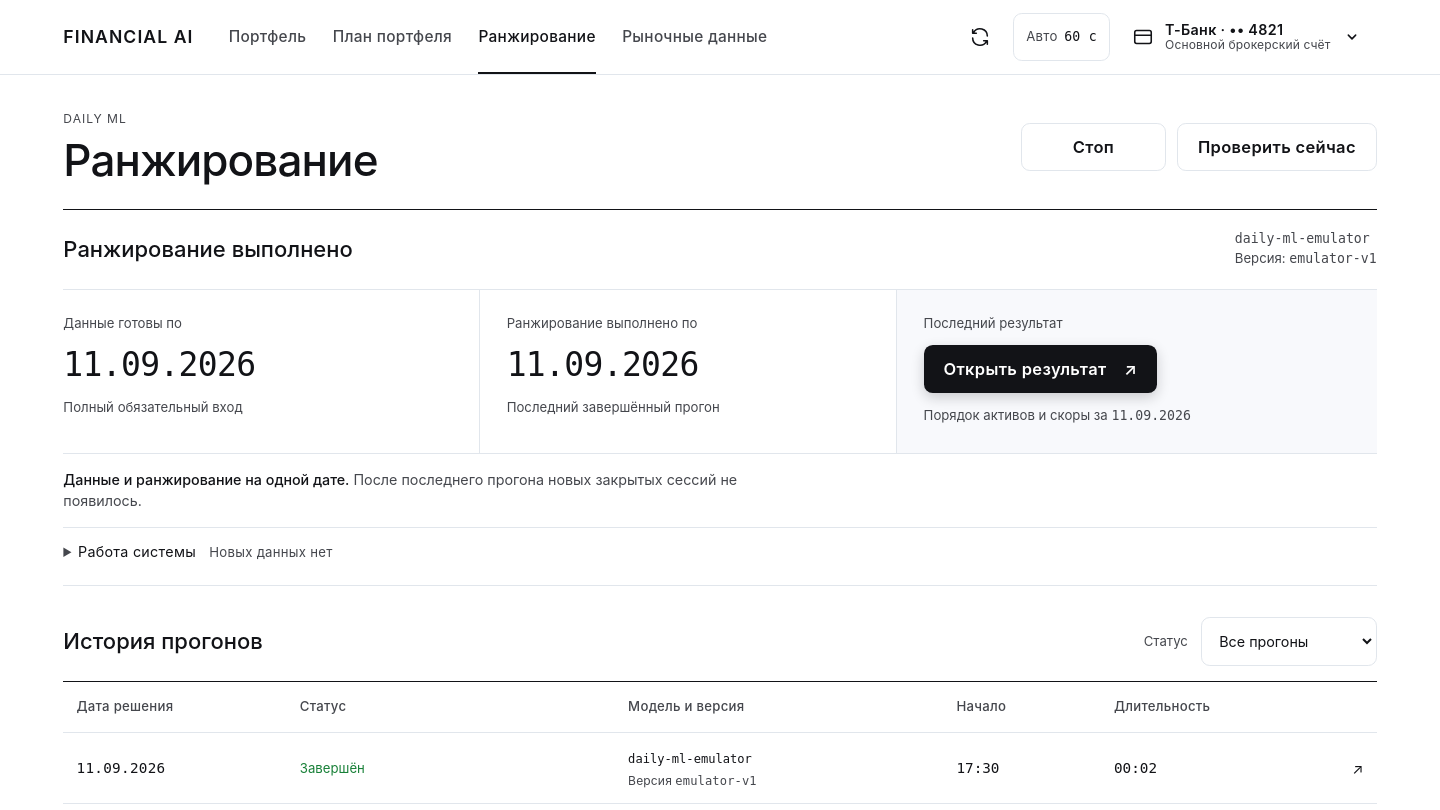
Test: управление › недоступность сборщика не выдаётся за отказ ранжирования
This screenshot has width=1440, height=810.
Expected: the heading "Ранжирование выполнено" is shown, left=63, top=236, right=353, bottom=262
Click the button "Проверить сейчас": (1277,147) left=1177, top=123, right=1377, bottom=171
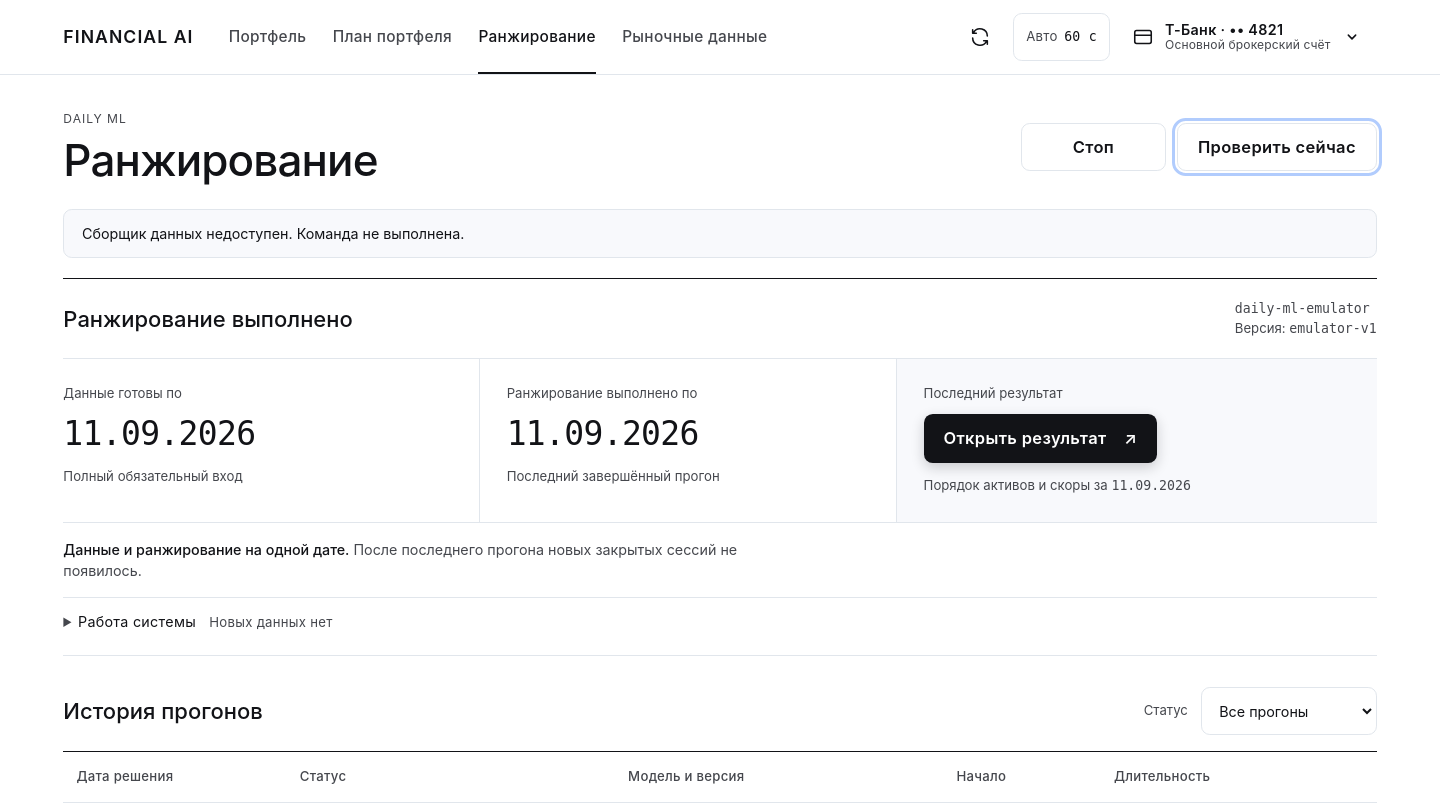
Now the text "Сборщик данных недоступен. Команда не выполнена." is shown, box left=63, top=209, right=1377, bottom=258
